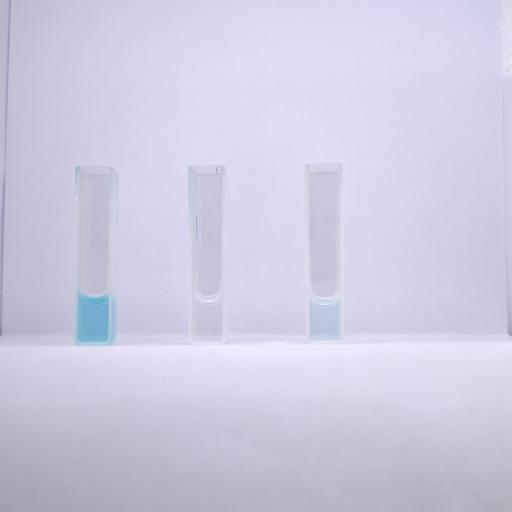cuvette: (72, 164, 118, 347), (302, 161, 347, 345), (186, 162, 228, 346)
liquid: (78, 294, 108, 342), (192, 294, 221, 341), (310, 297, 340, 340)
